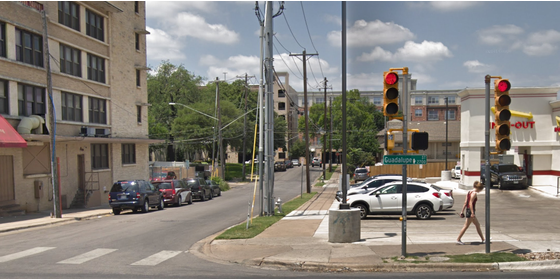street name sign: (381, 154, 433, 165)
